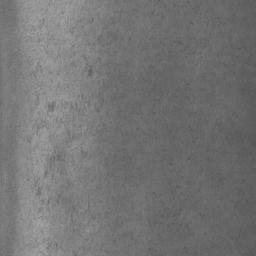Silk spot: (26, 0, 256, 256), (206, 180, 256, 256), (213, 119, 256, 174), (200, 145, 226, 195)
